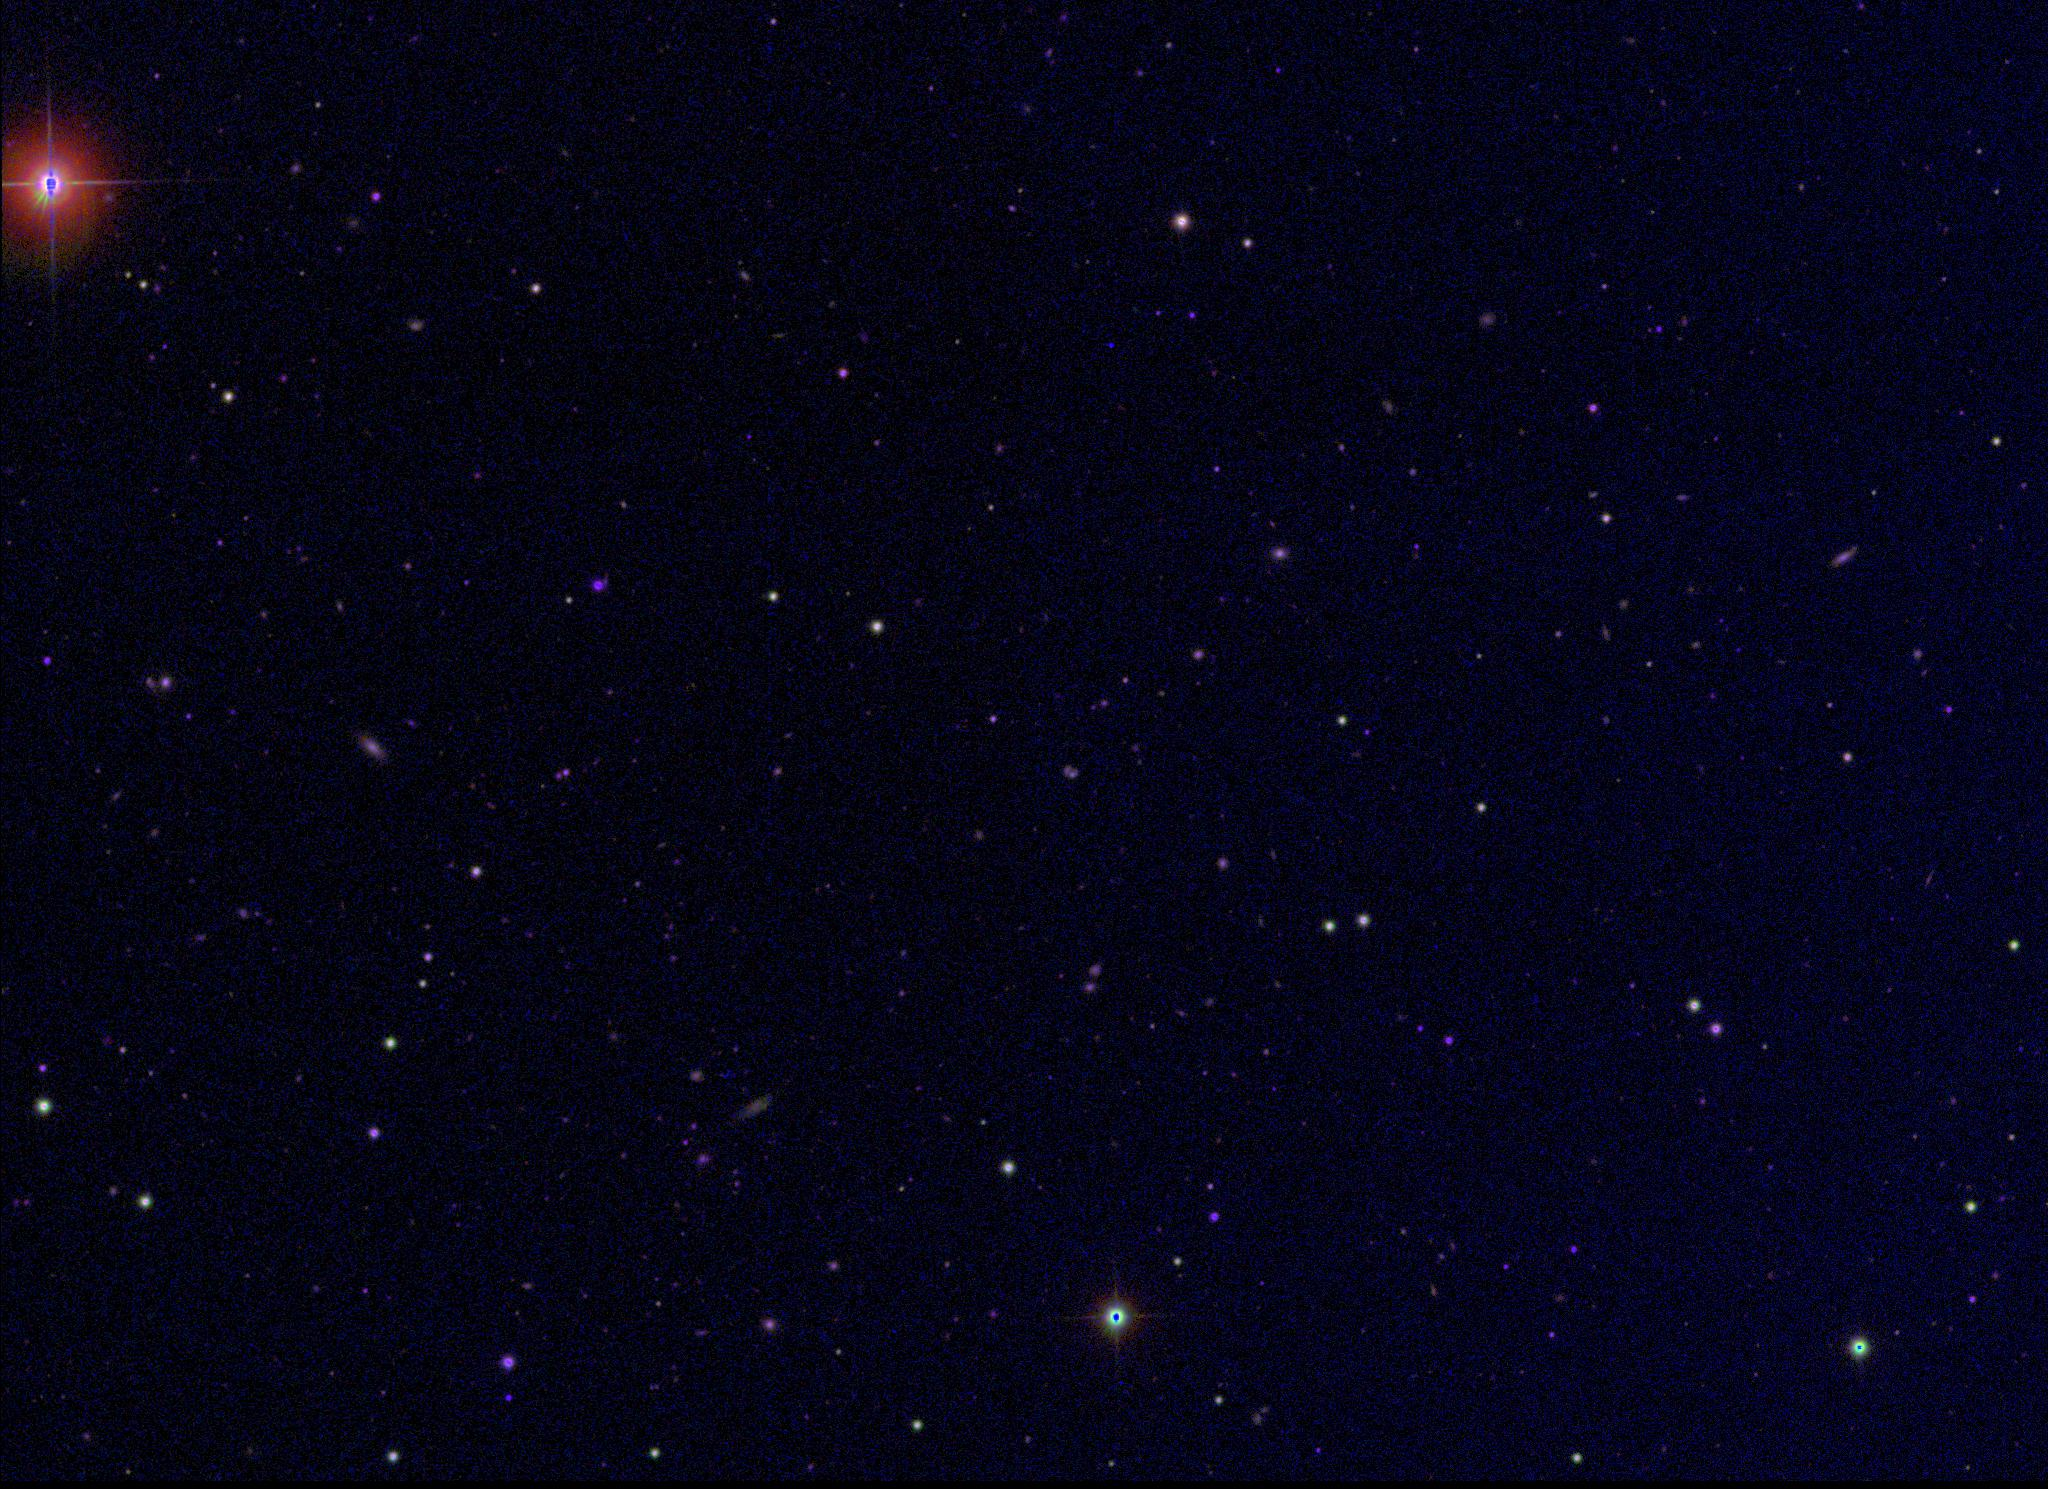L: (1104, 339, 1118, 353)
